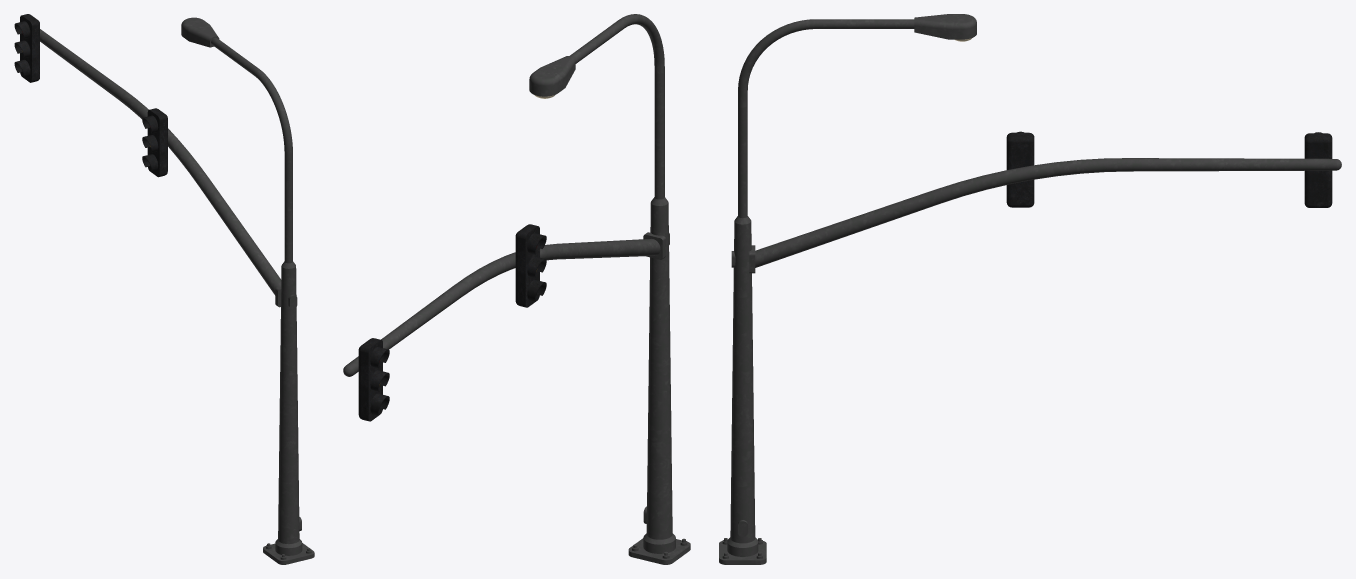
The picture shows the model from 3 angles, left to right: view 1: azimuth 30°, elevation 25°; view 2: azimuth 150°, elevation 25°; view 3: azimuth 270°, elevation 25°; orthographic projection. The views are drawn at different scales.
Parts seen in each view (by area): view 1: Signal_Separated24; view 2: Signal_Separated24; view 3: Signal_Separated24.
Boxes of the visible parts, box(x1,y1,x2,y2) form: Signal_Separated24: box(14, 14, 314, 564); Signal_Separated24: box(343, 14, 690, 564); Signal_Separated24: box(719, 14, 1341, 564).
Size of the model in its own units: 0.5658 by 6 by 6.32.
2 materials, 2 textured.
